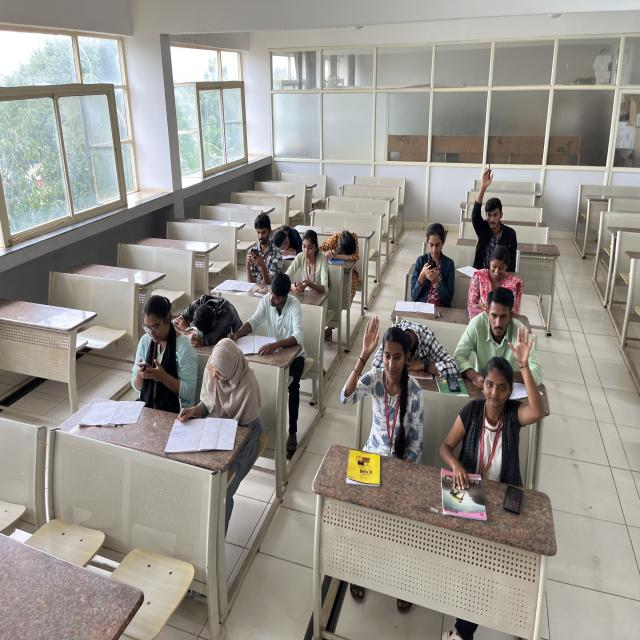Hand Rising: (462, 319, 548, 464), (339, 313, 421, 441), (462, 166, 520, 260)
Sleeping: (392, 314, 454, 378), (180, 293, 240, 346), (321, 225, 363, 263), (270, 226, 305, 261)
Using Phone: (133, 300, 198, 400), (410, 222, 458, 297), (241, 217, 283, 281), (290, 231, 327, 294)
Writing: (177, 335, 263, 443), (227, 273, 300, 354)
